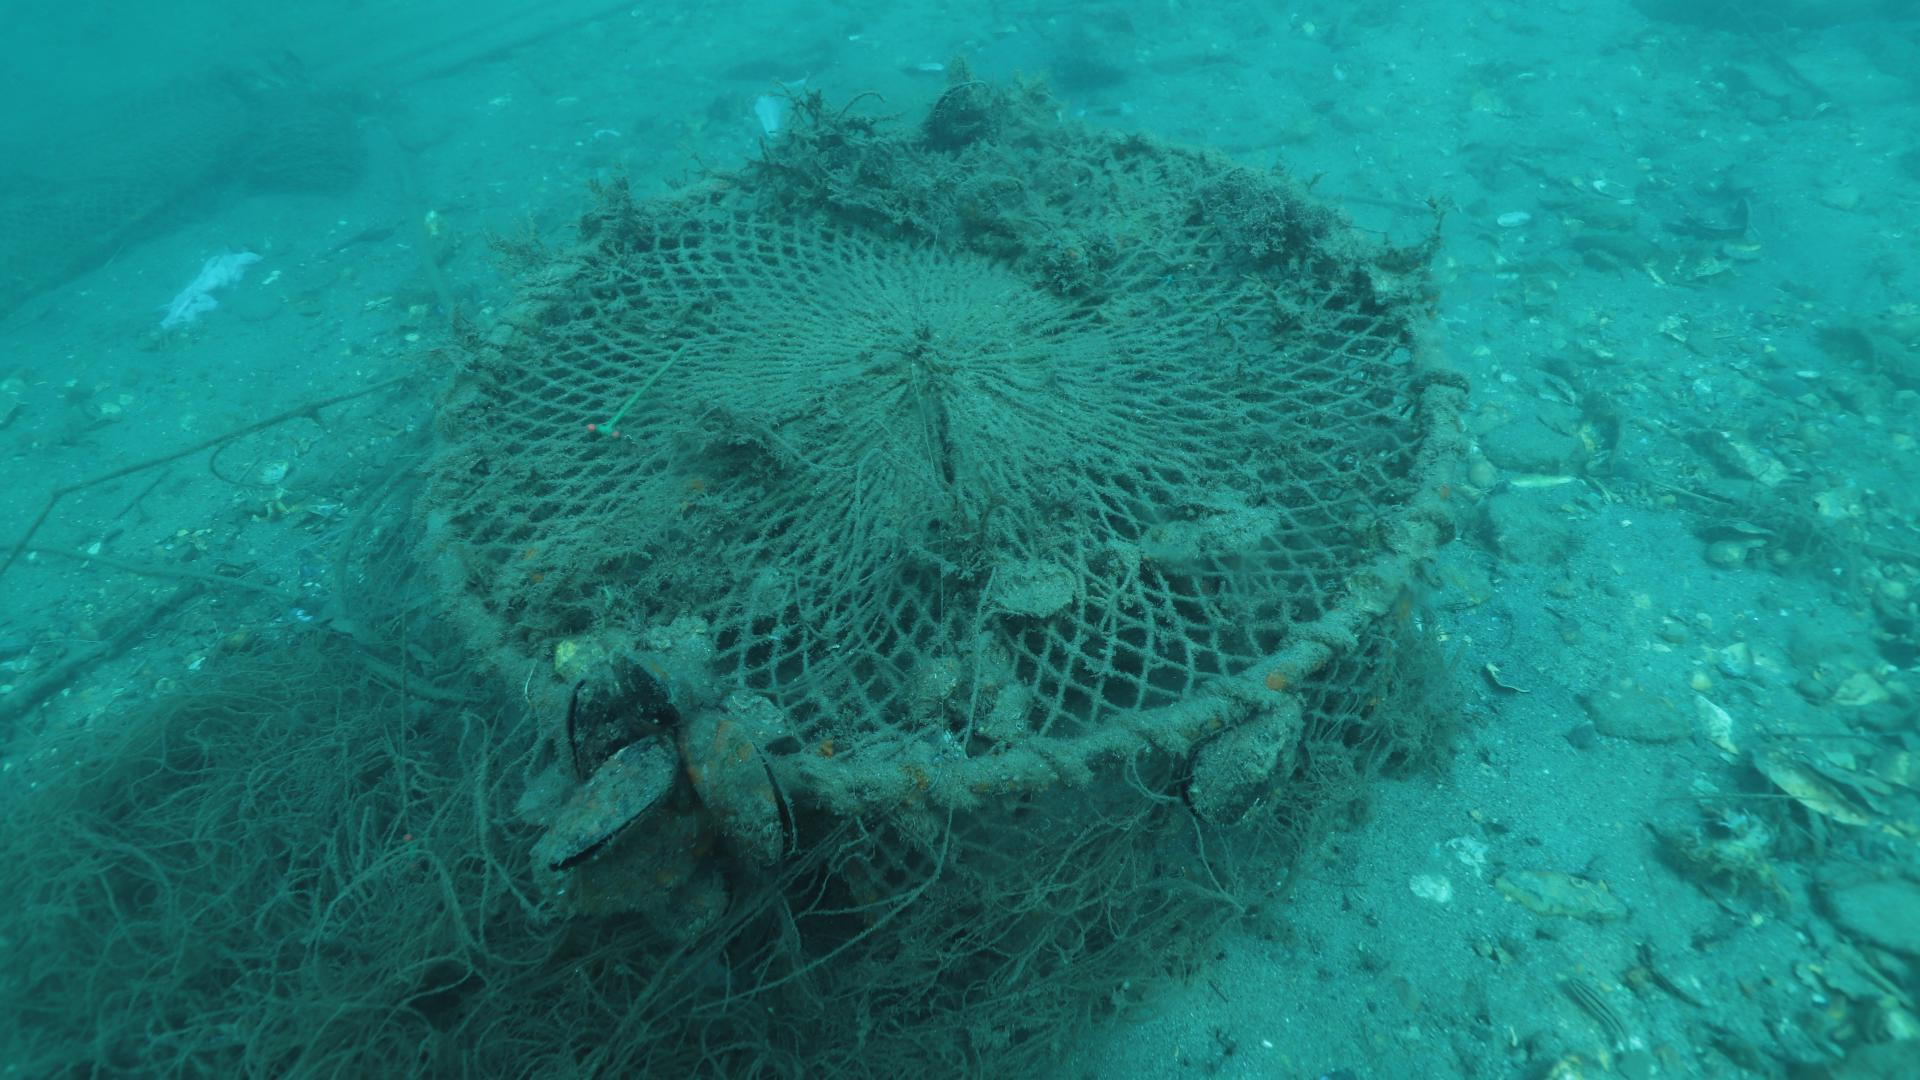circular fish trap: (411, 108, 1461, 918)
